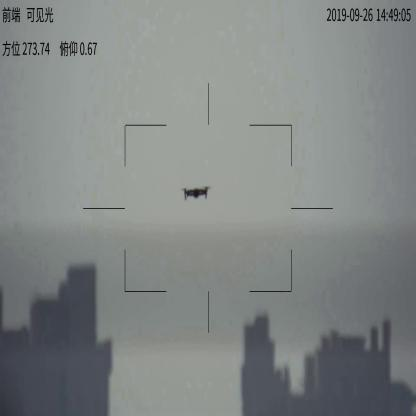uav: (177, 185, 213, 202)
